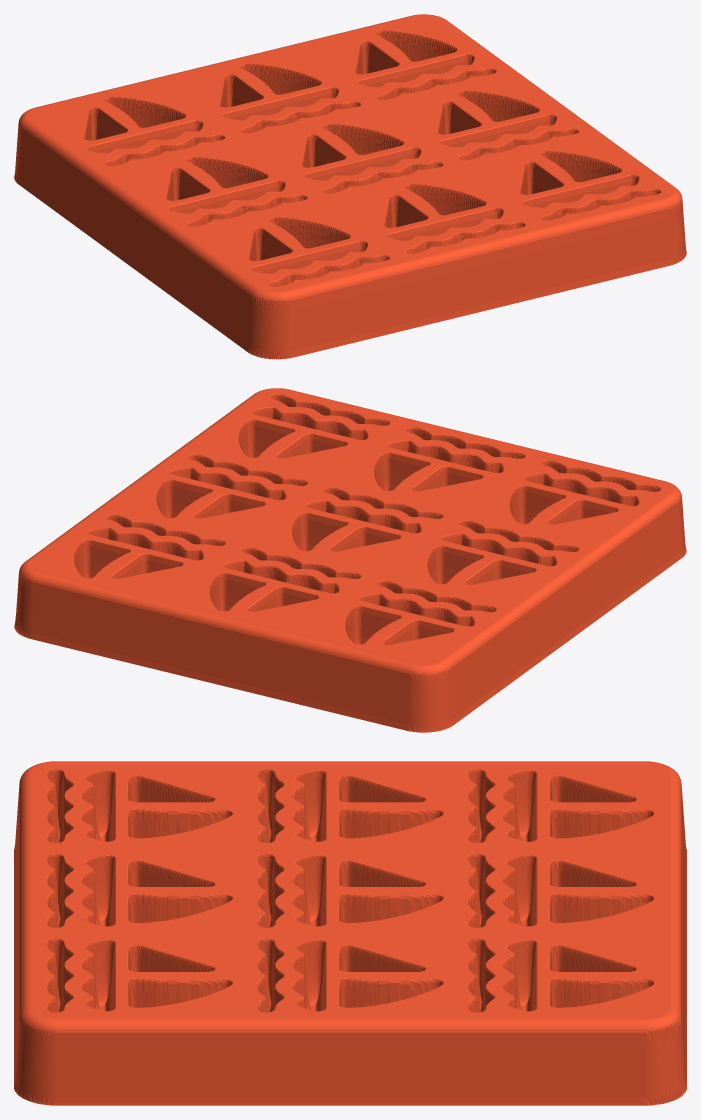
File: mold.glb
3 renders of one model, top to bottom at view 1: azimuth 30°, elevation 25°; view 2: azimuth 150°, elevation 25°; view 3: azimuth 270°, elevation 25°, orthographic. The views are drawn at different scales.
Visible parts, largest first — view 1: geometry_0; view 2: geometry_0; view 3: geometry_0.
Part boxes in pixels (x1,y1,x2,y2): geometry_0: (14,14,686,359); geometry_0: (14,388,686,732); geometry_0: (14,761,686,1105).
Size of the model in its own units: 0.1338 by 0.0182 by 0.1402.
